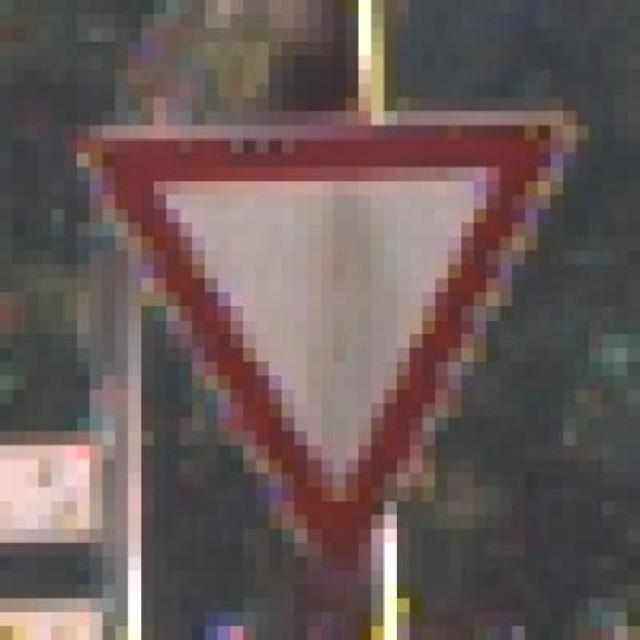Give Way: (64, 97, 602, 571)
